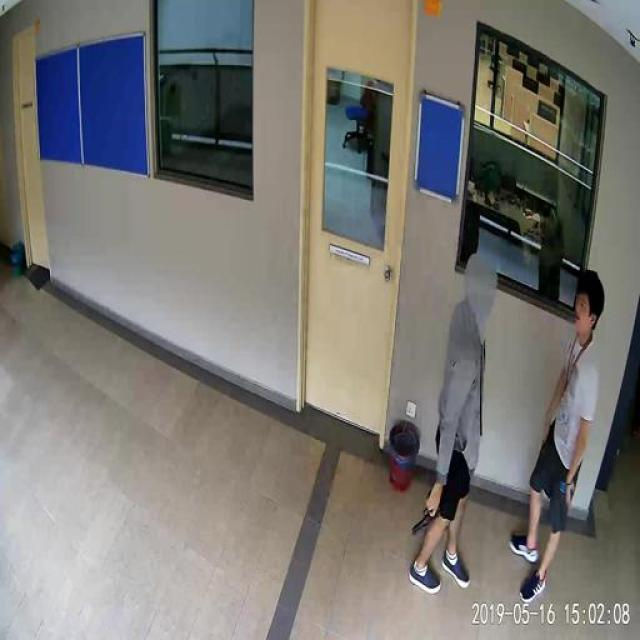Gun: (402, 489, 453, 543)
